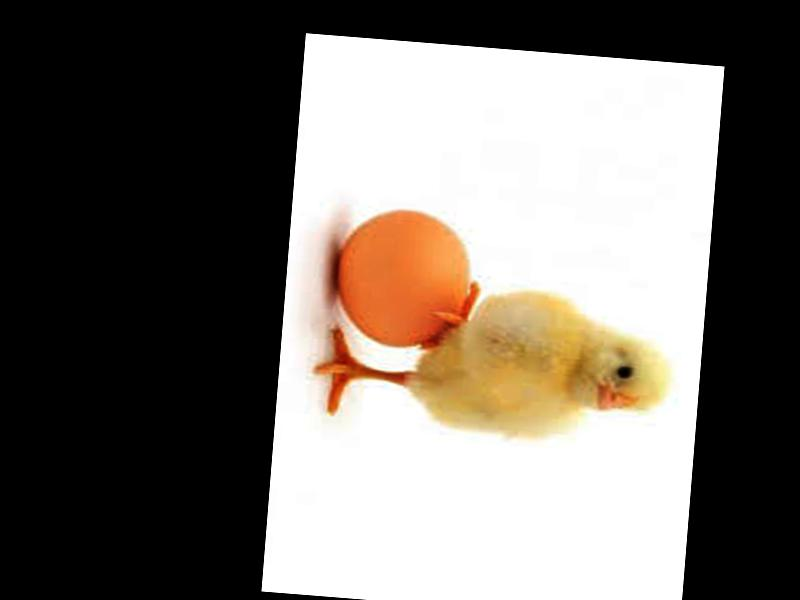Eggs: (332, 204, 480, 355)
